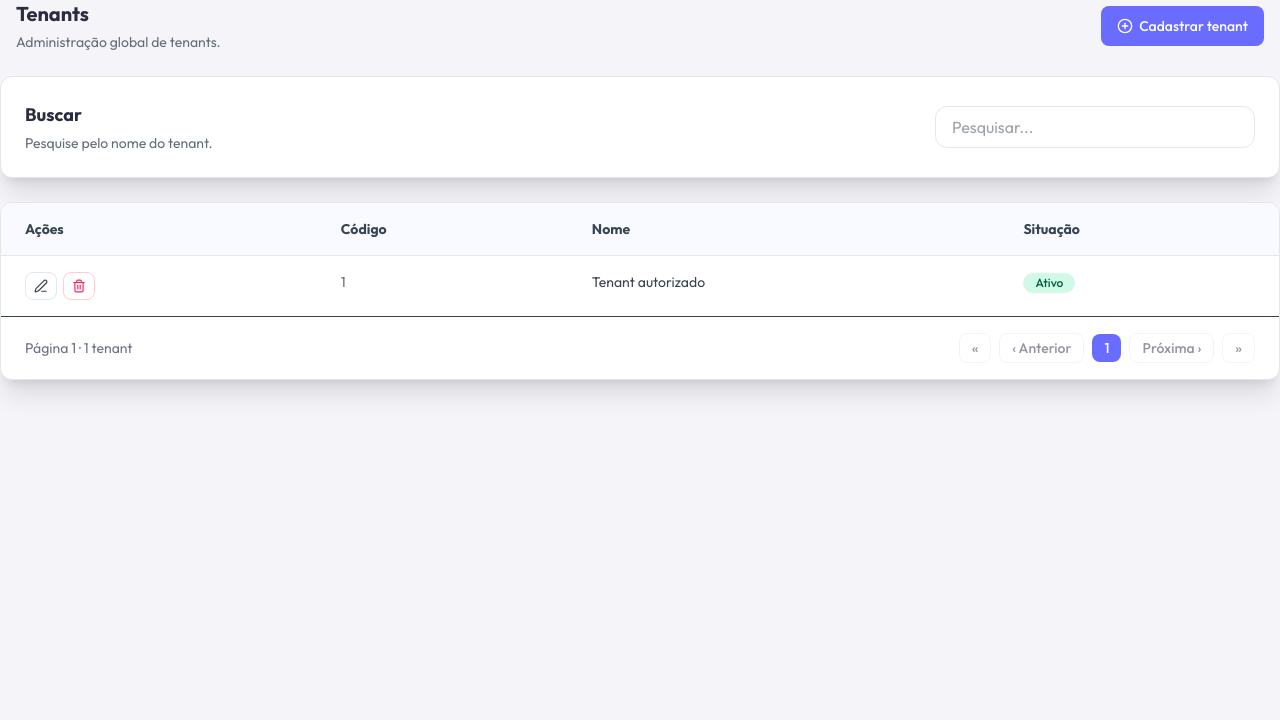
Tenant administration › lists tenants and opens the create form for Admin
The image size is (1280, 720).
expect the text "Tenant autorizado" is shown: met, box [568,256,999,316]
Step 1. Click the button "Cadastrar tenant" → [1183, 26], box [1101,6,1264,46]
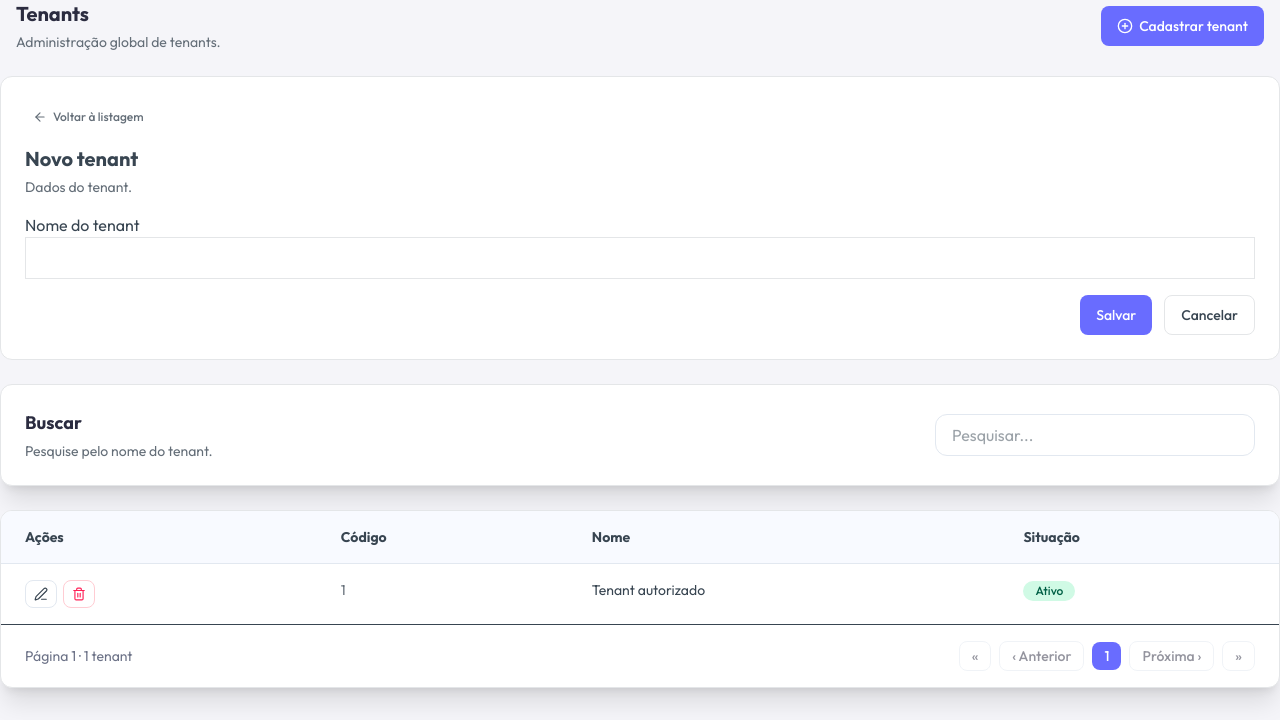
expect the field labelled "Nome do tenant" is shown: met, box [25,237,1255,279]
expect the button "Salvar" is shown: met, box [1080,295,1152,335]
